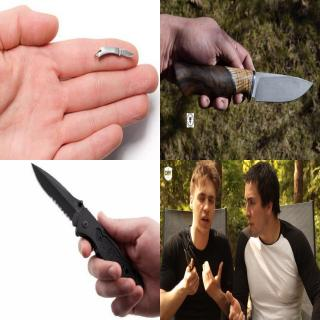knife: (28, 160, 124, 281), (197, 44, 315, 109), (181, 245, 200, 287), (111, 43, 139, 59)
